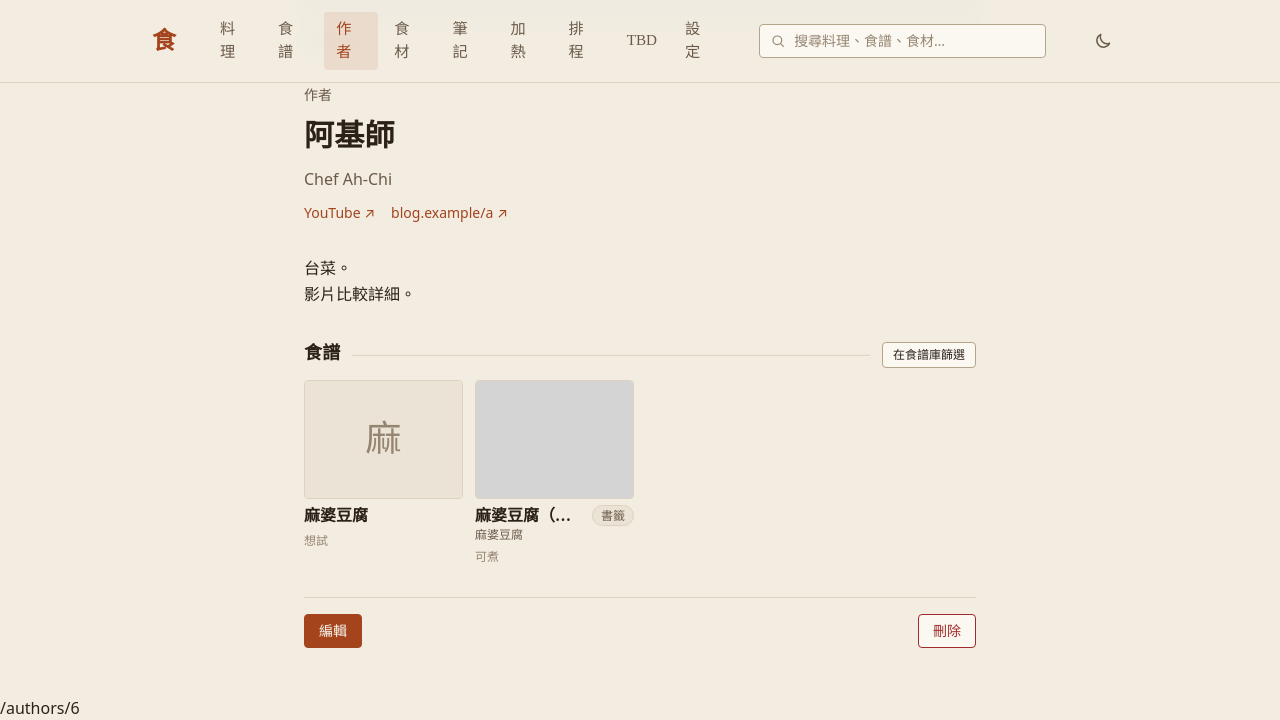
Scenario: the author page › says up front that the sources naming it refuse the delete, and echoes no counts
This screenshot has width=1280, height=720.
(page scrolled)
Click the button "刪除" at (947, 631), box [918,614,976,648]
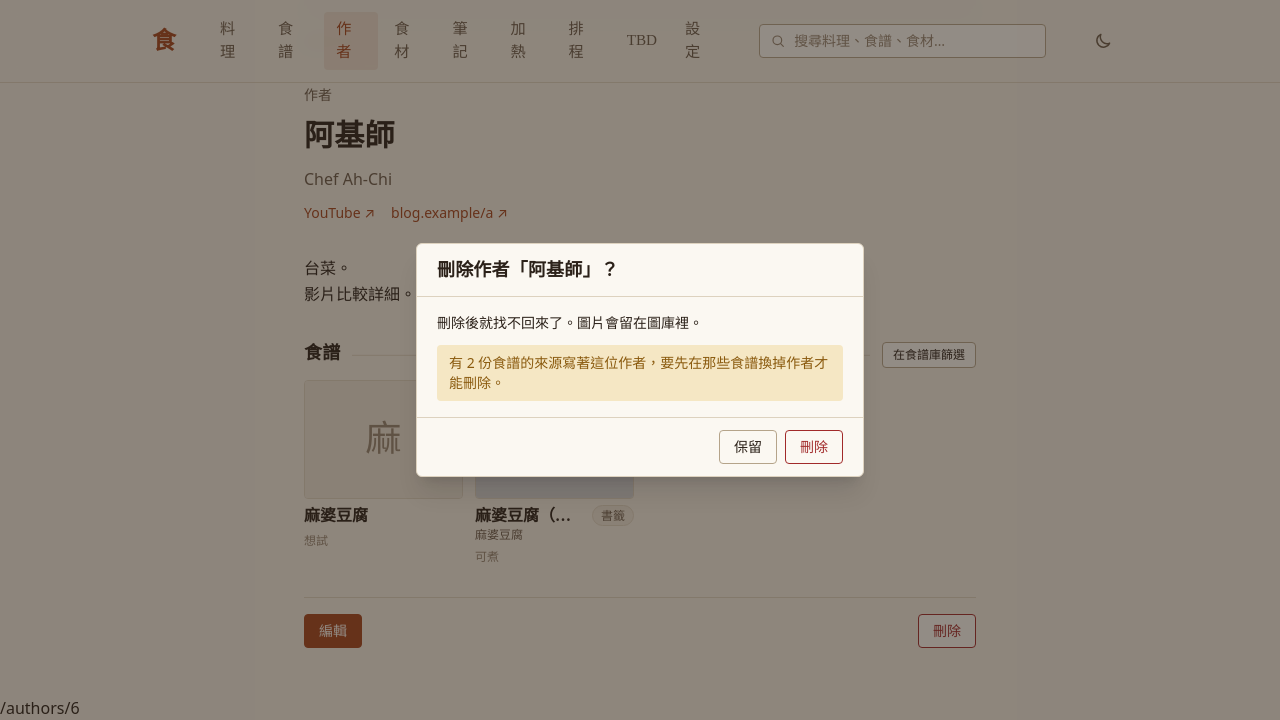
Check: the text "有 2 份食譜的來源寫著這位作者，要先在那些食譜換掉作者才能刪除。" is shown, box [437,345,843,401]
Click the button "刪除" at (814, 447), box [785,430,843,464]
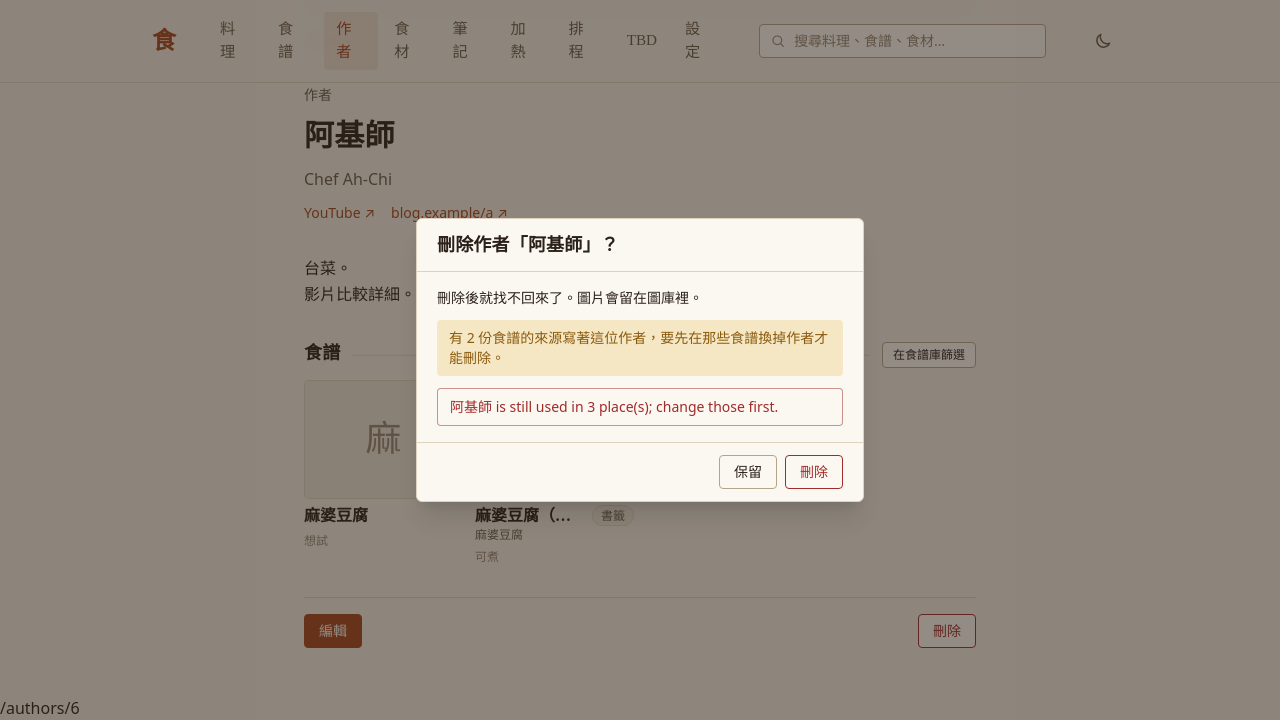
Check: the text with test id "location" reads "/authors/6", box [0,697,80,719]
Check: the text "阿基師 is still used in 3 place(s); change those first." is shown, box [437,388,843,426]
